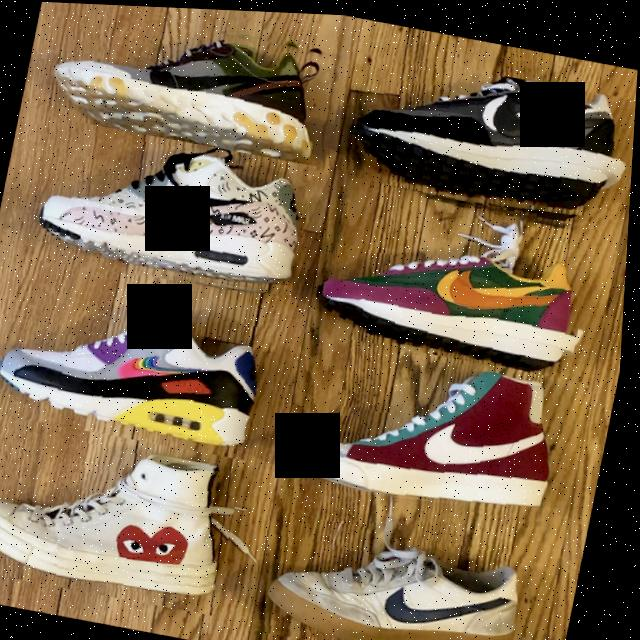shoe: (310, 169, 606, 376), (291, 330, 591, 529), (0, 265, 292, 461), (23, 115, 320, 306), (337, 45, 638, 230), (33, 1, 353, 175), (0, 410, 251, 614), (258, 507, 545, 640)
